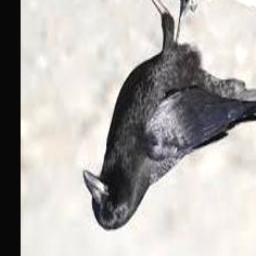Crow: (84, 0, 256, 231)
